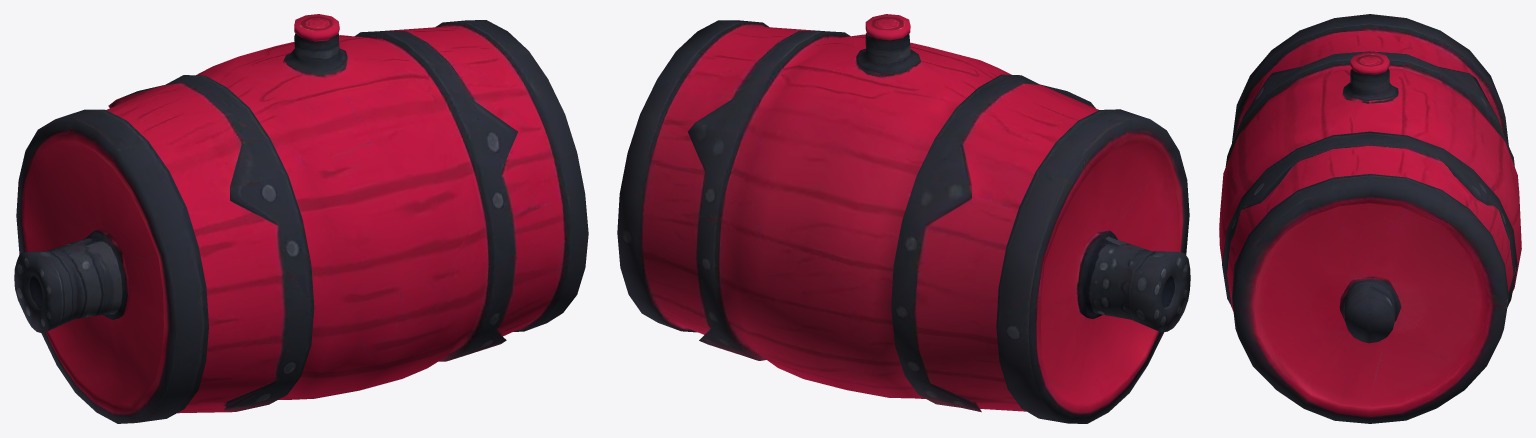
File: powderBarrel.glb
3 views of the same model, side by side, from view 1: azimuth 30°, elevation 25°; view 2: azimuth 150°, elevation 25°; view 3: azimuth 270°, elevation 25° (orthographic). The views are drawn at different scales.
Bounding box in the file's own units: 0.958 × 0.6421 × 0.5889.
Materials: 1 (1 with a texture image).
